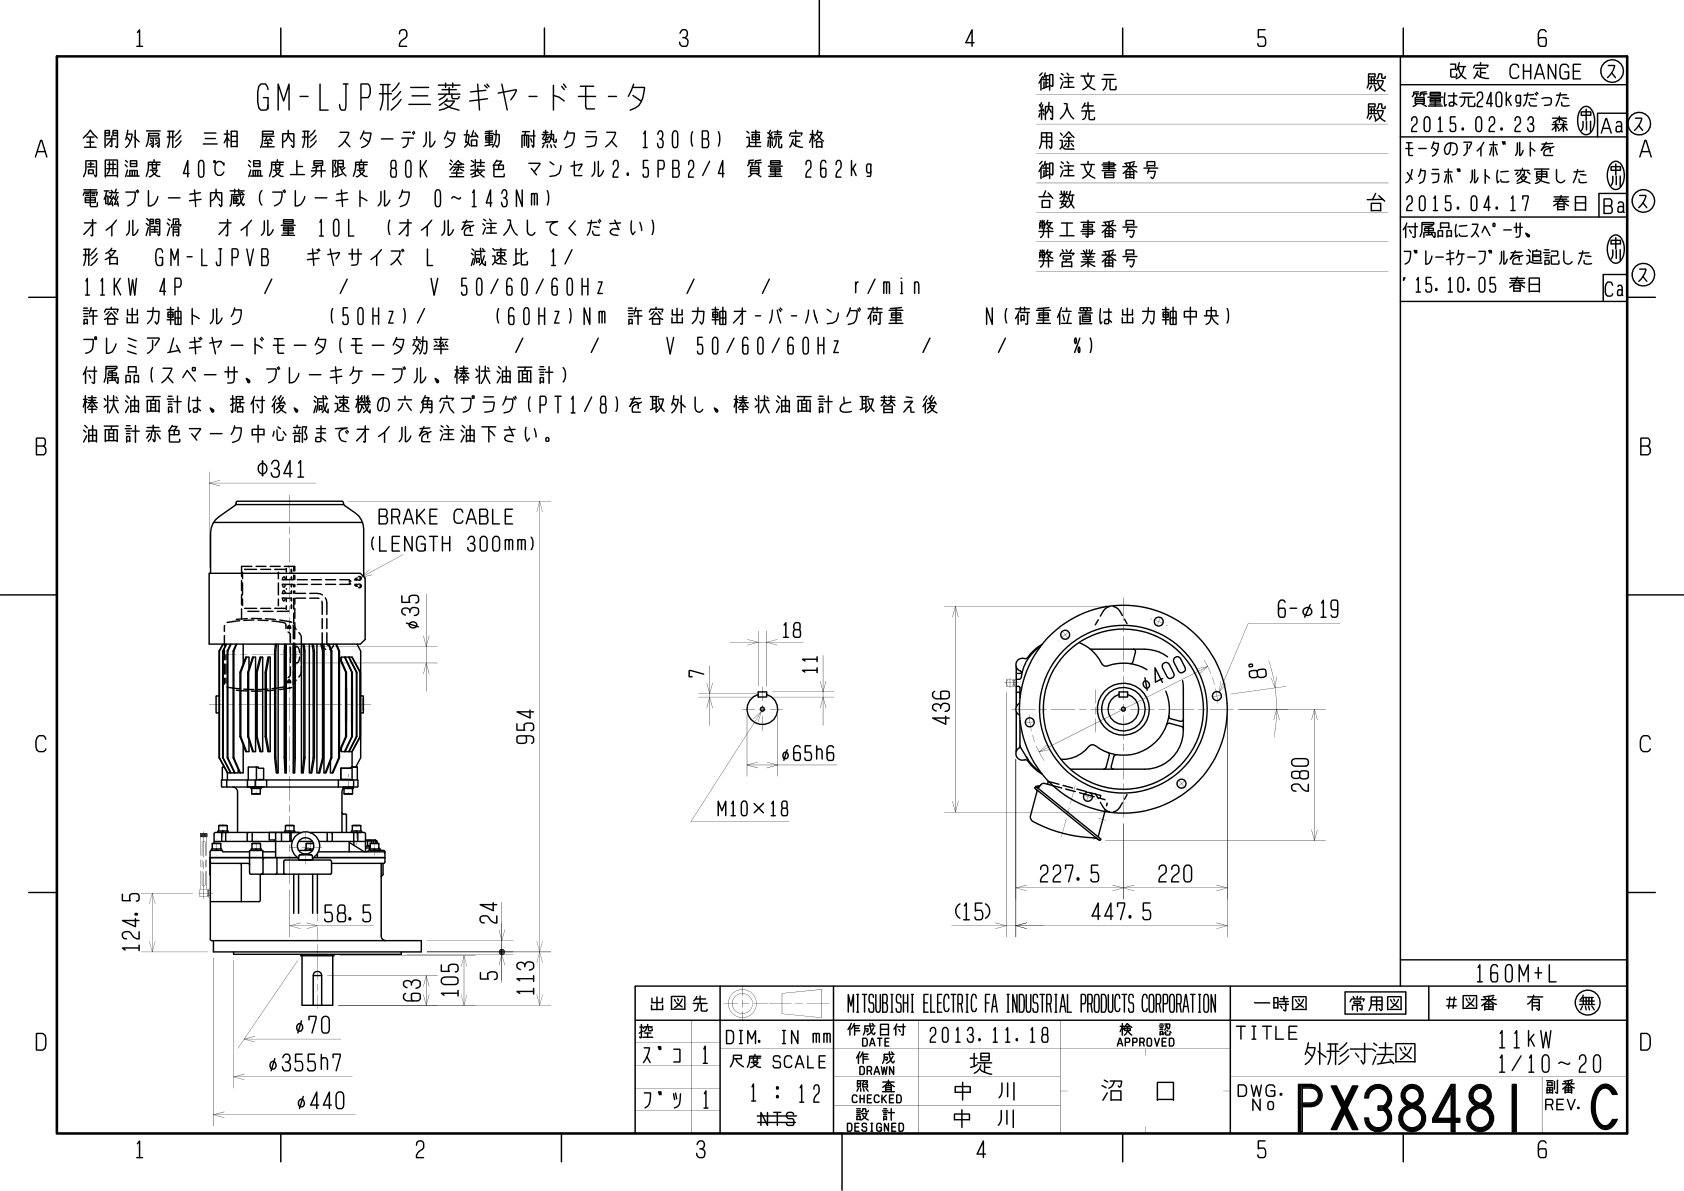GM_LJP_屋内_三相_立: (61, 451, 1389, 982)
